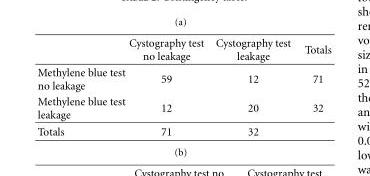table: (36, 36, 330, 137)
table column: (36, 36, 126, 137), (209, 36, 297, 137), (126, 36, 209, 137), (297, 36, 330, 137)
table column header: (36, 36, 330, 63)
table row: (36, 63, 330, 93), (36, 93, 330, 122), (36, 36, 330, 63), (36, 122, 330, 137)
